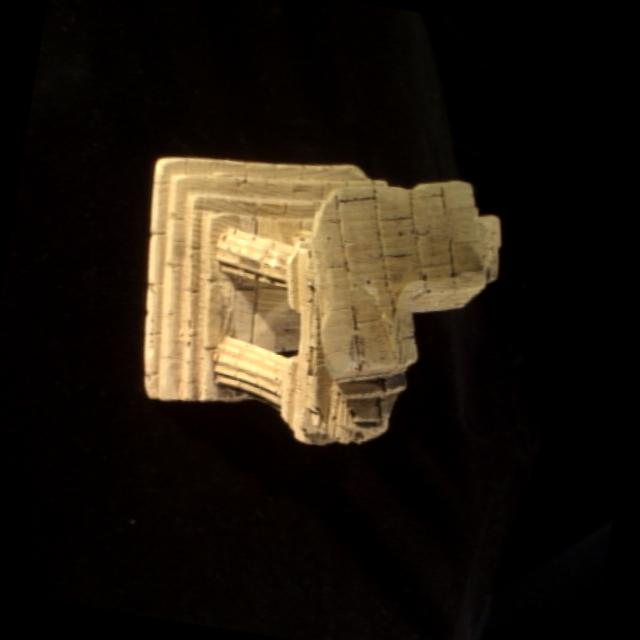Instance-Segmentation: (144, 156, 498, 441)
